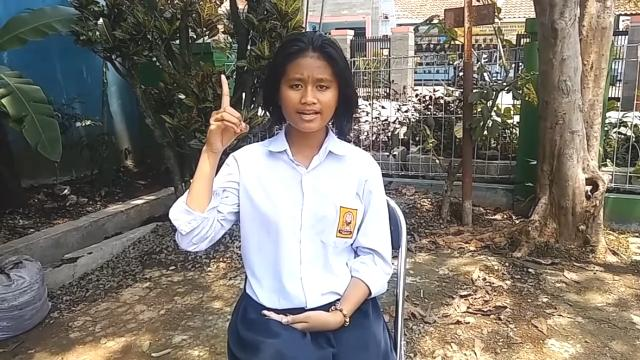D: (205, 73, 249, 159)
